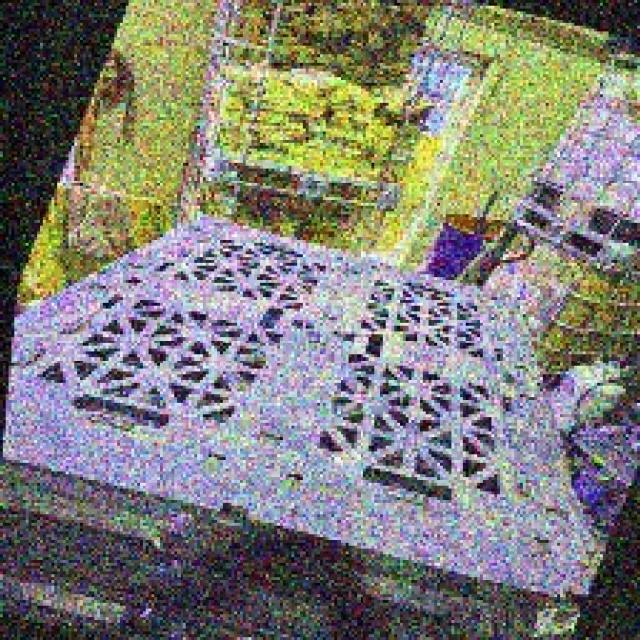igps: (0, 205, 614, 640), (0, 475, 542, 640), (0, 549, 317, 640)
